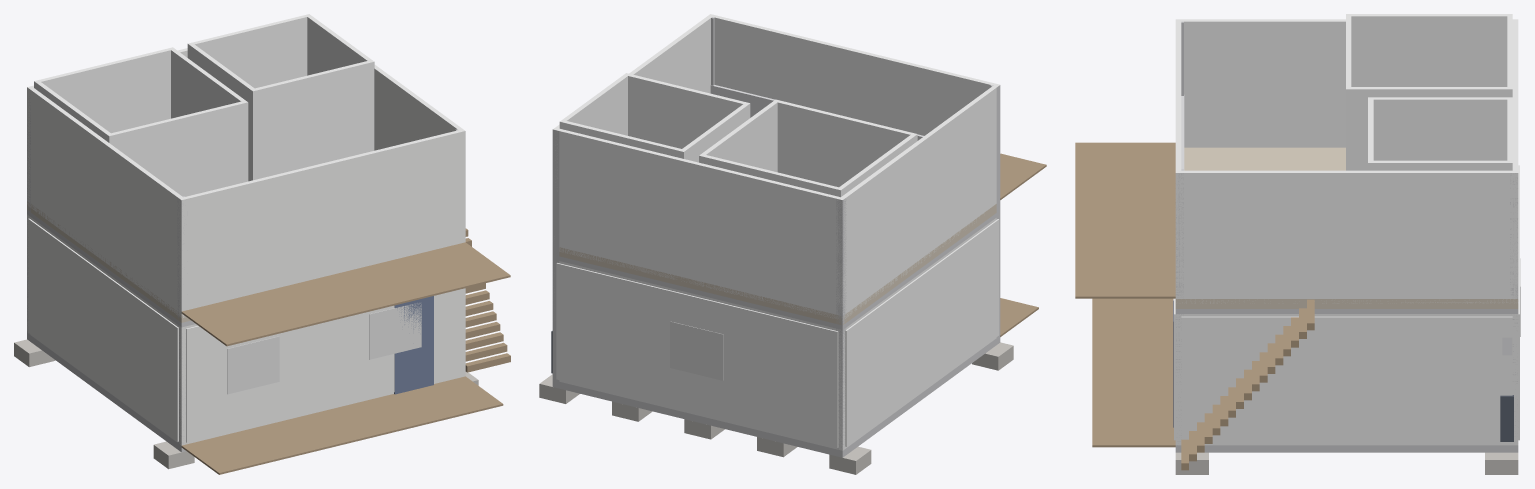
The model's file is Duplex-20-FullSolar-LOD1.glb.
3 renders of one model, left to right at view 1: azimuth 30°, elevation 25°; view 2: azimuth 150°, elevation 25°; view 3: azimuth 270°, elevation 25°, orthographic. The views are drawn at different scales.
Parts seen in each view (by area): view 1: ExteriorShellUpper, ExteriorPanelsStandard, StudyUpper, BedroomUpper, BalconyUpper, BalconyGround, WindowsStandard, StaircaseExternal, EntryDoor, ExteriorShell, FoundationBlocks, BaseFrame (+3 smaller); view 2: ExteriorShellUpper, ExteriorPanelsStandard, BedroomUpper, StudyUpper, VerticalStructure, FloorUpper, FoundationBlocks, BaseFrame, ExteriorShell, WindowsStandard, TopFrame, BalconyUpper (+2 smaller); view 3: ExteriorShellUpper, ExteriorPanelsStandard, BalconyUpper, BedroomUpper, BalconyGround, StudyUpper, FloorUpper, StaircaseExternal, ExteriorShell, BaseFrame, TopFrame, FoundationBlocks (+2 smaller).
Boxes of the visible parts, left/top/right/bottom form: ExteriorShellUpper: left=27, top=48, right=465, bottom=317; ExteriorPanelsStandard: left=28, top=218, right=461, bottom=442; StudyUpper: left=187, top=14, right=374, bottom=181; BedroomUpper: left=34, top=47, right=248, bottom=196; BalconyUpper: left=181, top=242, right=510, bottom=346; BalconyGround: left=181, top=376, right=503, bottom=474; WindowsStandard: left=227, top=303, right=421, bottom=394; StaircaseExternal: left=465, top=228, right=510, bottom=372; EntryDoor: left=394, top=296, right=433, bottom=394; ExteriorShell: left=27, top=214, right=465, bottom=445; FoundationBlocks: left=14, top=339, right=478, bottom=469; BaseFrame: left=27, top=333, right=186, bottom=452; ExteriorShellUpper: left=553, top=14, right=999, bottom=320; ExteriorPanelsStandard: left=556, top=219, right=999, bottom=447; BedroomUpper: left=699, top=99, right=917, bottom=197; StudyUpper: left=559, top=73, right=750, bottom=162; VerticalStructure: left=552, top=17, right=1000, bottom=449; FloorUpper: left=553, top=204, right=996, bottom=325; FoundationBlocks: left=539, top=342, right=1013, bottom=474; BaseFrame: left=552, top=336, right=1000, bottom=457; ExteriorShell: left=553, top=218, right=996, bottom=450; WindowsStandard: left=670, top=321, right=723, bottom=380; TopFrame: left=559, top=213, right=996, bottom=329; BalconyUpper: left=1000, top=153, right=1046, bottom=199; ExteriorShellUpper: left=1175, top=19, right=1518, bottom=303; ExteriorPanelsStandard: left=1174, top=165, right=1519, bottom=443; BalconyUpper: left=1075, top=142, right=1175, bottom=298; BedroomUpper: left=1346, top=14, right=1512, bottom=170; BalconyGround: left=1092, top=298, right=1175, bottom=447; StudyUpper: left=1368, top=97, right=1512, bottom=170; FloorUpper: left=1175, top=147, right=1518, bottom=308; StaircaseExternal: left=1181, top=299, right=1314, bottom=470; ExteriorShell: left=1175, top=314, right=1518, bottom=445; BaseFrame: left=1175, top=445, right=1518, bottom=452; TopFrame: left=1175, top=309, right=1518, bottom=313; FoundationBlocks: left=1175, top=452, right=1518, bottom=474.
Bounding box in the file's own units: 7.94 × 6 × 8.
